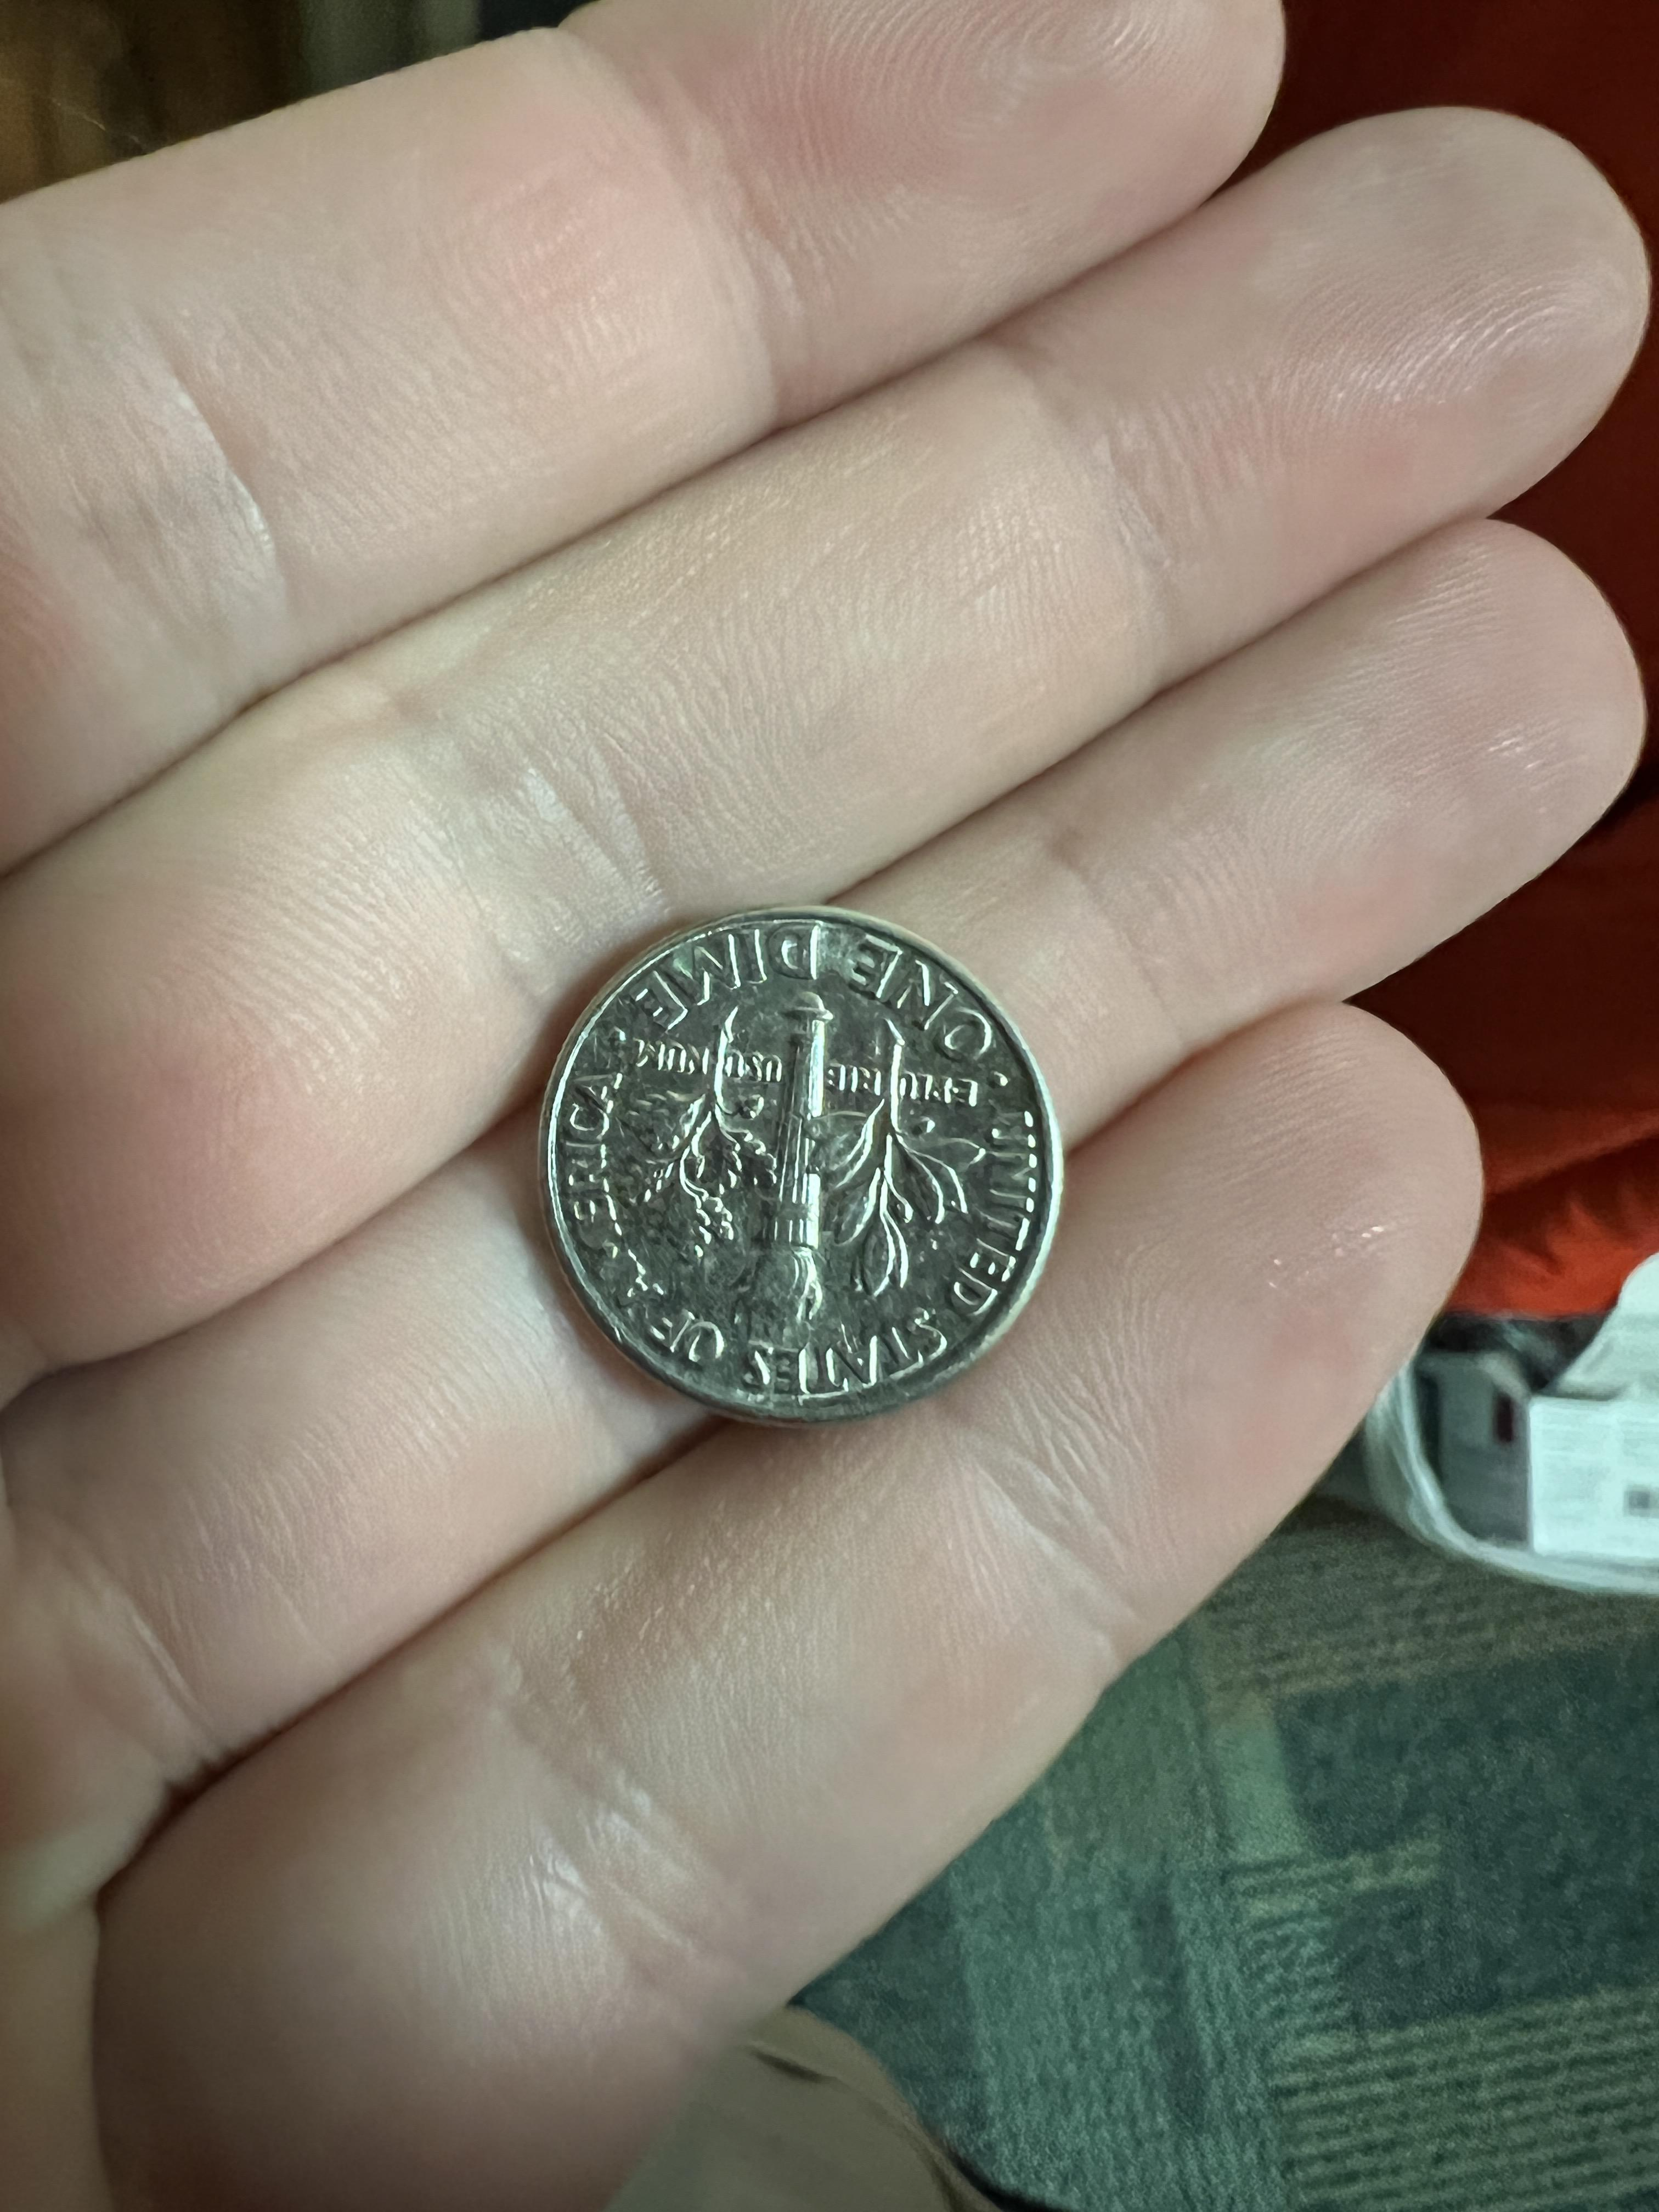Dime: (509, 881, 1094, 1426)
